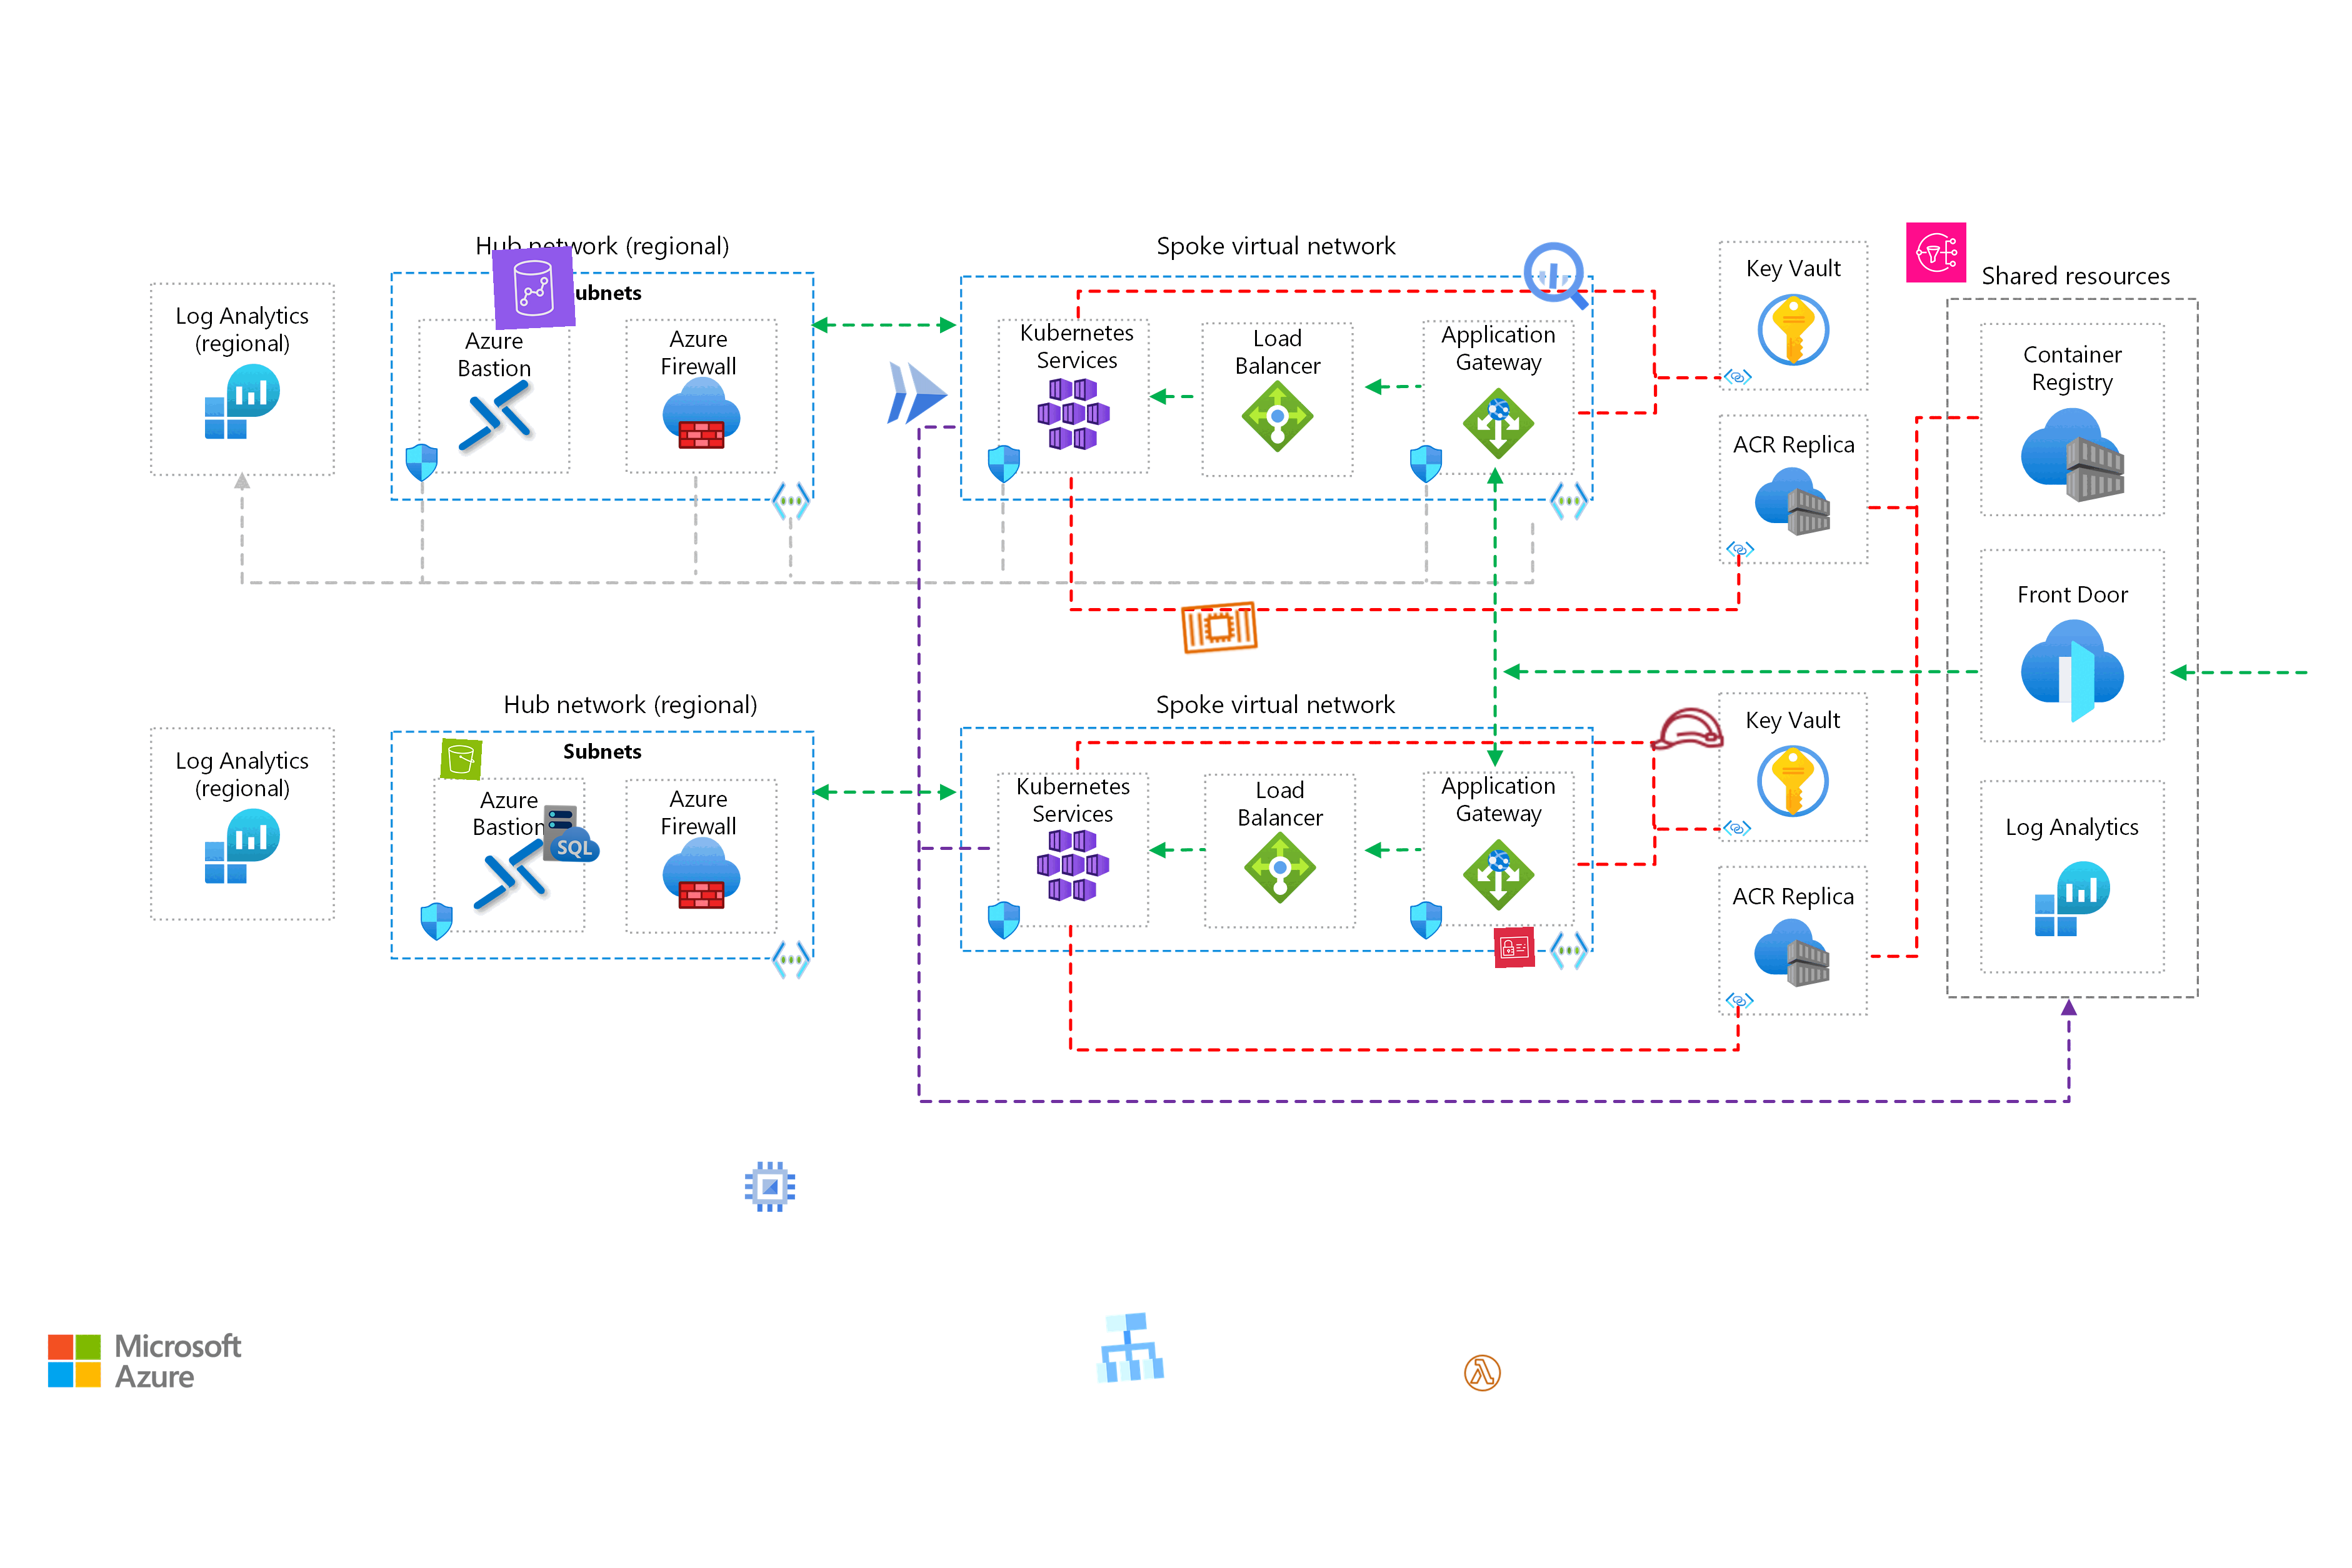aws_amazon_redshift: (492, 245, 576, 331)
aws_amazon_simple_notification_service: (1906, 222, 1967, 283)
aws_amazon_simple_storage_service: (439, 738, 483, 780)
aws_elastic_container_service_container_2: (1176, 584, 1263, 672)
aws_identity_access_management_role: (1647, 689, 1727, 770)
aws_identity_and_access_management: (1493, 926, 1536, 969)
aws_lambda_lambda_function: (1461, 1353, 1503, 1393)
azure_sql_managed_instance: (541, 803, 604, 864)
gcp_bigquery: (1514, 233, 1599, 318)
gcp_cloud_load_balancing: (1085, 1304, 1172, 1391)
gcp_cloud_run: (875, 352, 959, 436)
gcp_compute_engine: (740, 1157, 802, 1218)
